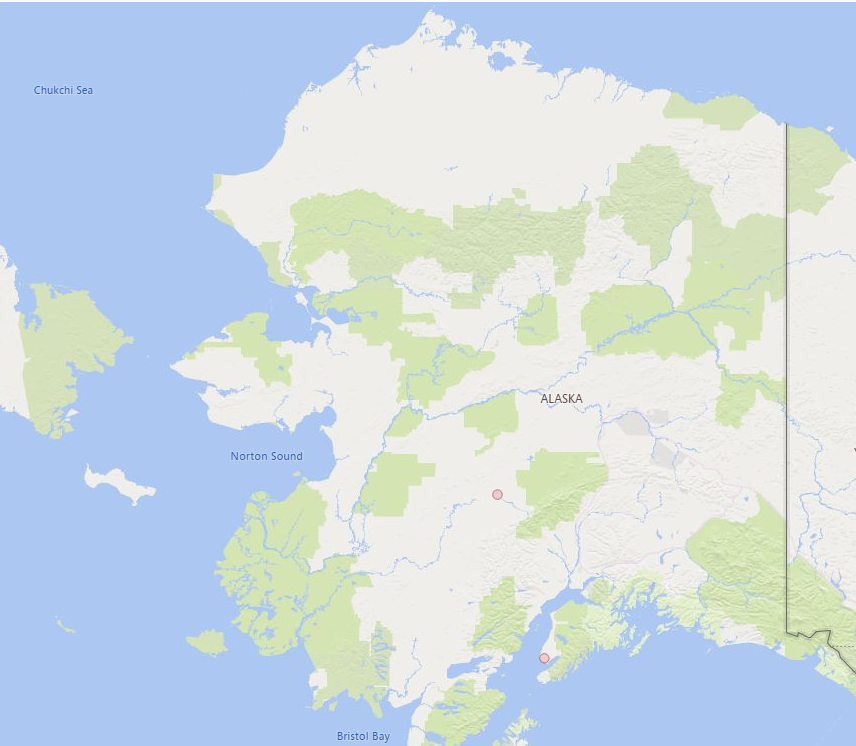

This screenshot's page, from the dashboard's own definition file:
{"tool":"powerbi","page":{"name":"Page 1","canvas":[1280,720],"ordinal":0},"visuals":[{"type":"map","fields":{"Category":["adited location counts.Location"],"Size":["Sum(adited location counts.Count)"]},"box":[9.7,0,1270.3,720.2],"z":0}]}

Visuals, with their boxes on the page's 1280x720 design canvas (x1, y1, x2, y2). These are canvas units, not pixel positions in the 856x746 screenshot, which may show the page scaled, cropped or inside an application window:
map - adited location counts.Location x Sum(adited location counts.Count): box(10, 0, 1280, 720)
